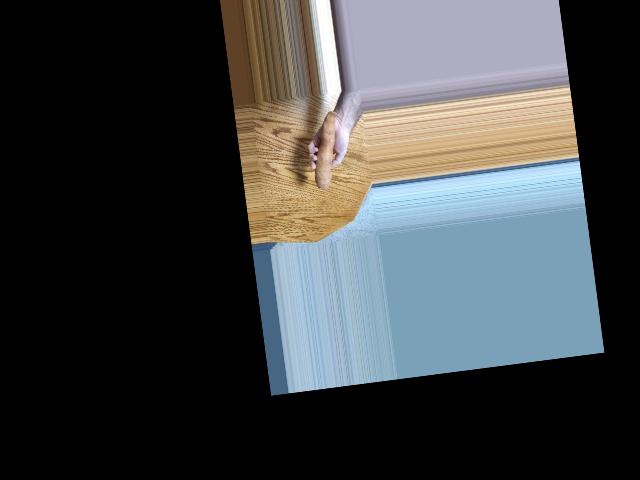sweet_potato: (305, 114, 343, 192)
